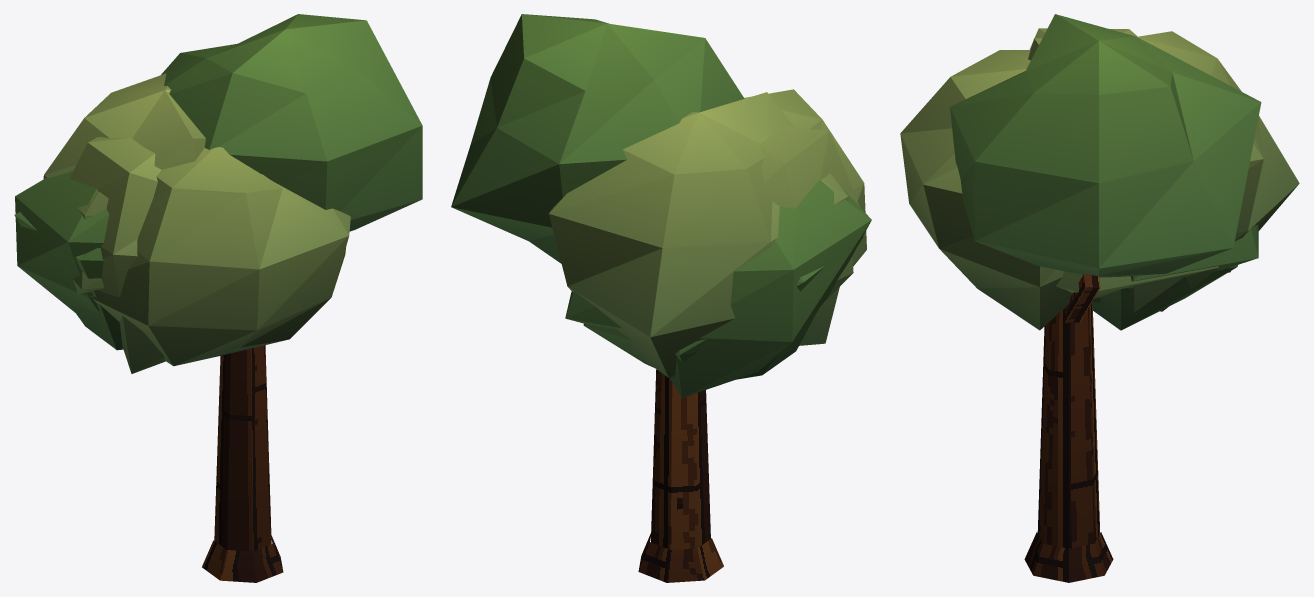
The model's file is apple_2_lowpoly.glb.
3 renders of one model, left to right at view 1: azimuth 30°, elevation 25°; view 2: azimuth 150°, elevation 25°; view 3: azimuth 270°, elevation 25°, orthographic. The views are drawn at different scales.
Visible parts, largest first — view 1: apple_2_lowpoly; view 2: apple_2_lowpoly; view 3: apple_2_lowpoly.
Boxes of the visible parts, x1=… form: apple_2_lowpoly: x1=14, y1=14, x2=422, y2=582; apple_2_lowpoly: x1=451, y1=14, x2=871, y2=582; apple_2_lowpoly: x1=900, y1=14, x2=1299, y2=582.
Bounding box in the file's own units: 3.58 × 4.81 × 3.15.
Materials: 2 (1 with a texture image).
